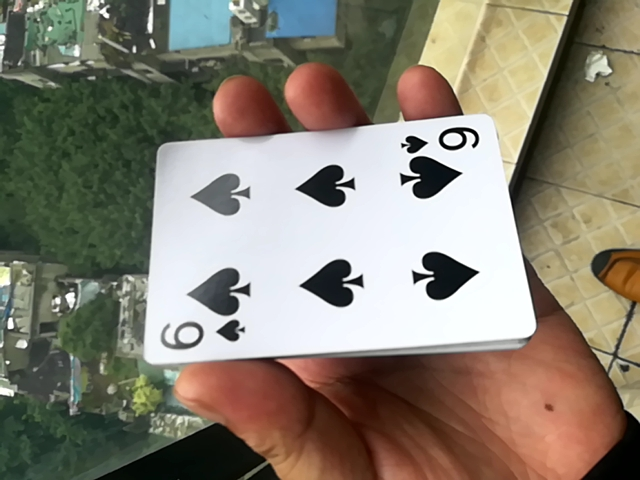ht 6: (124, 119, 534, 366)
